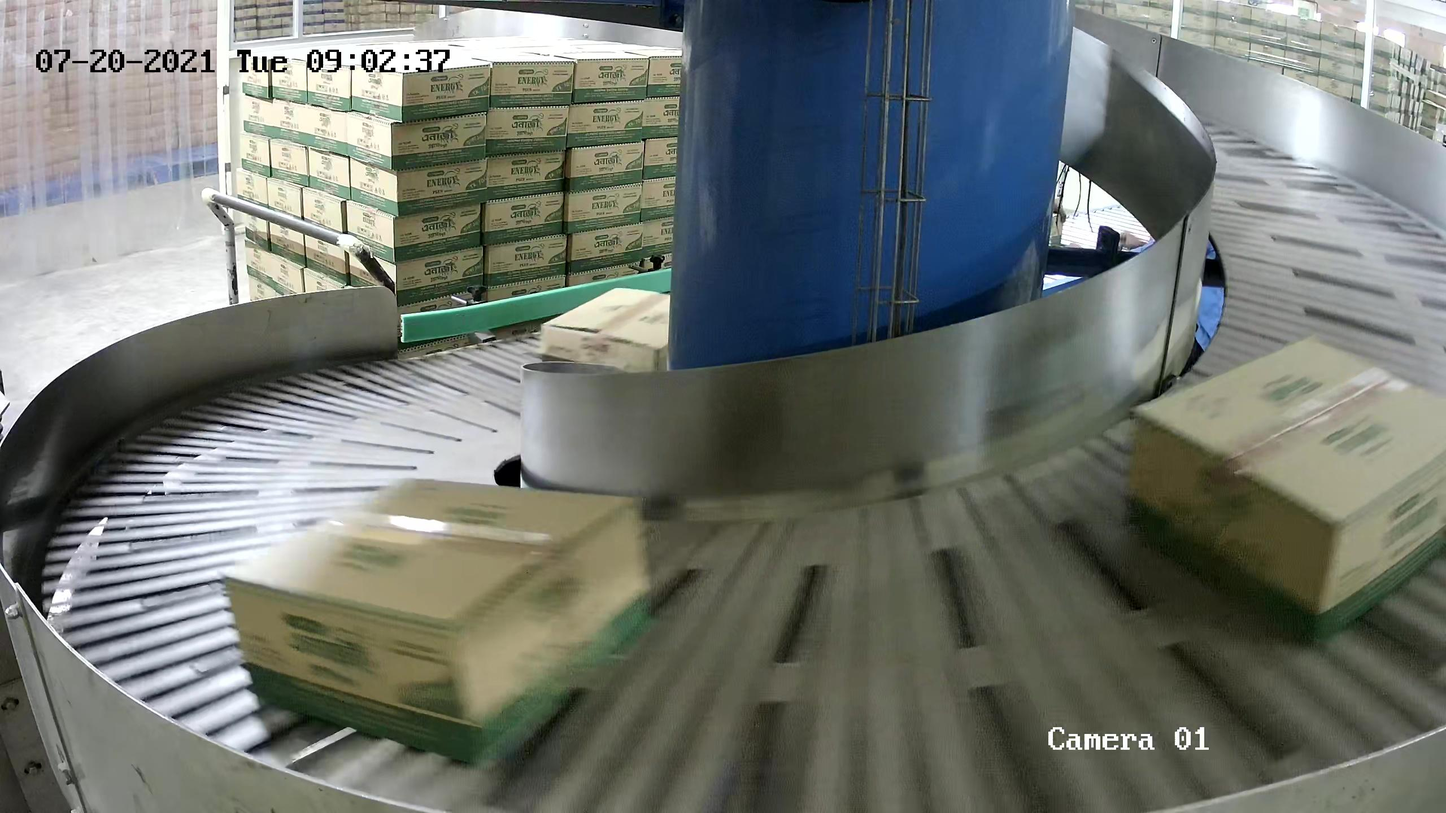Box: (217, 474, 662, 766), (1123, 331, 1446, 649), (538, 286, 683, 383)
